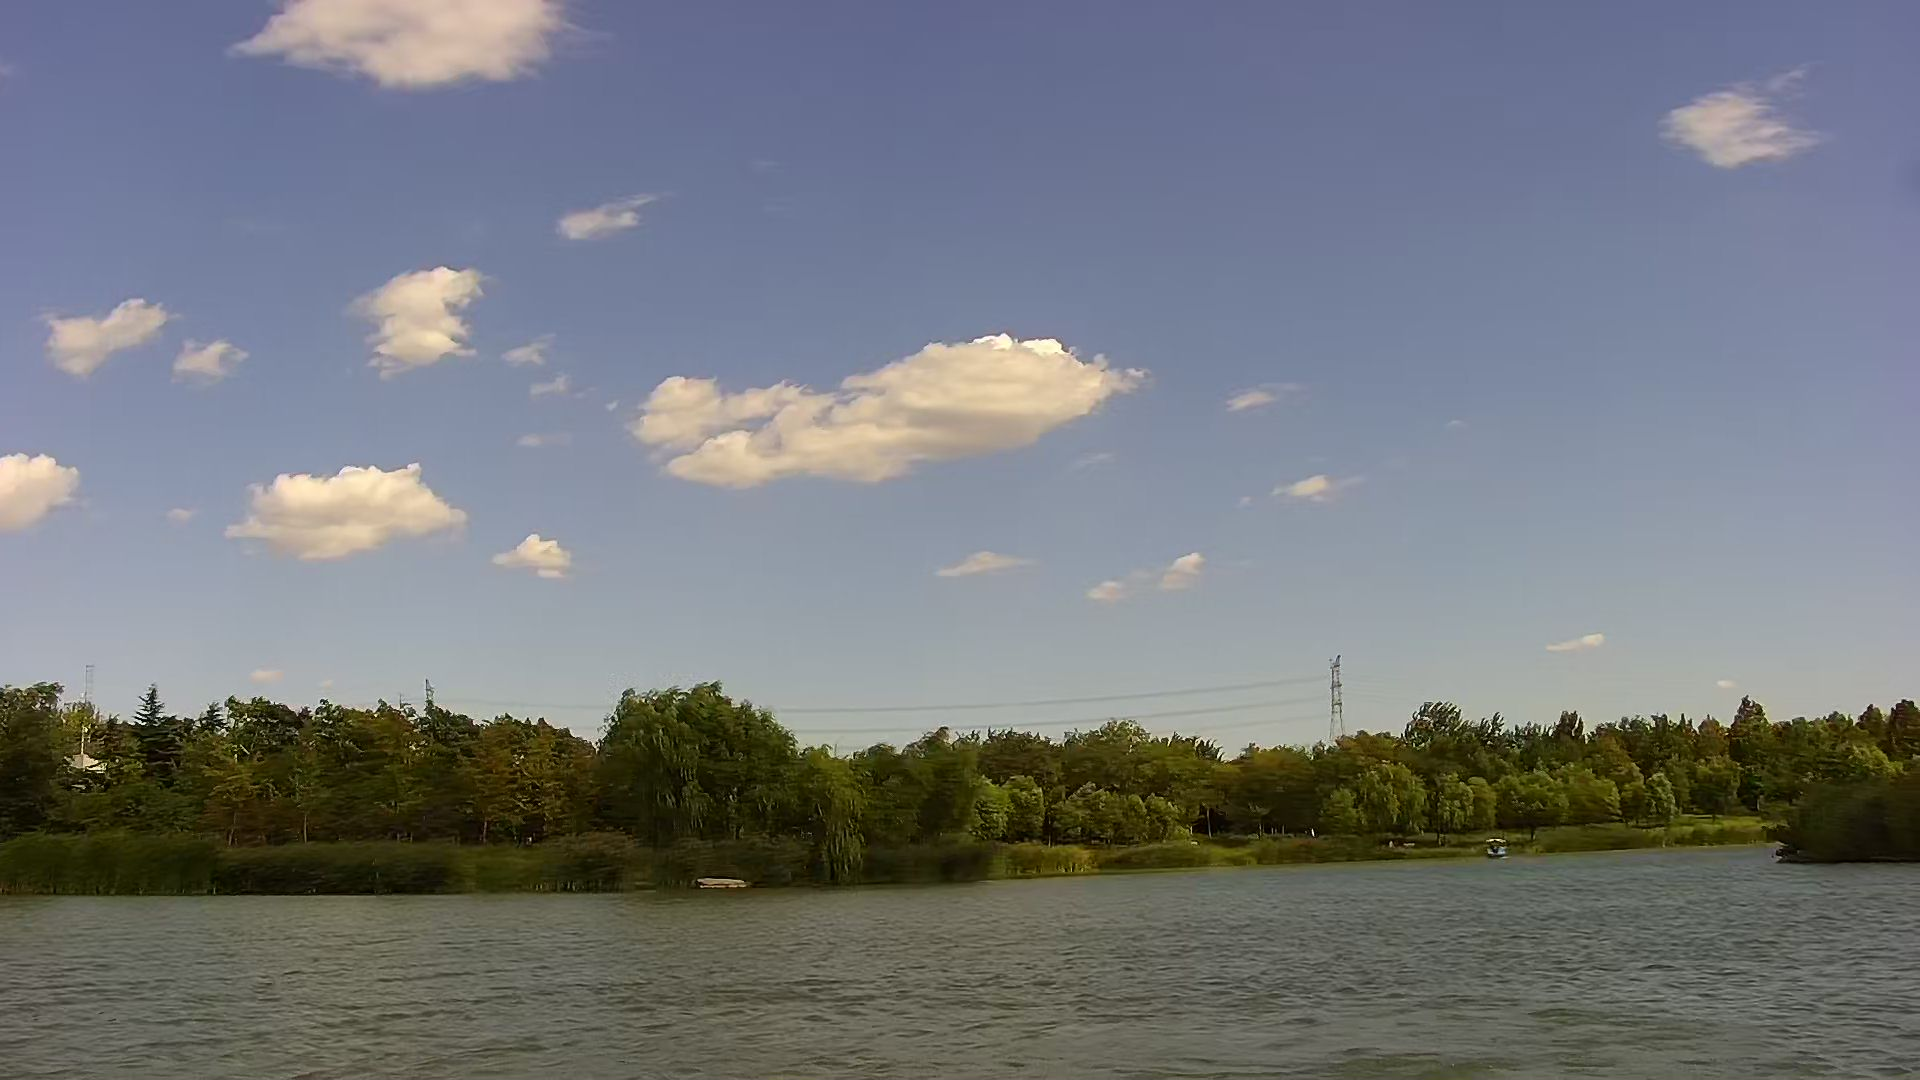boat: (1487, 835, 1502, 858)
rock: (698, 877, 748, 893)
